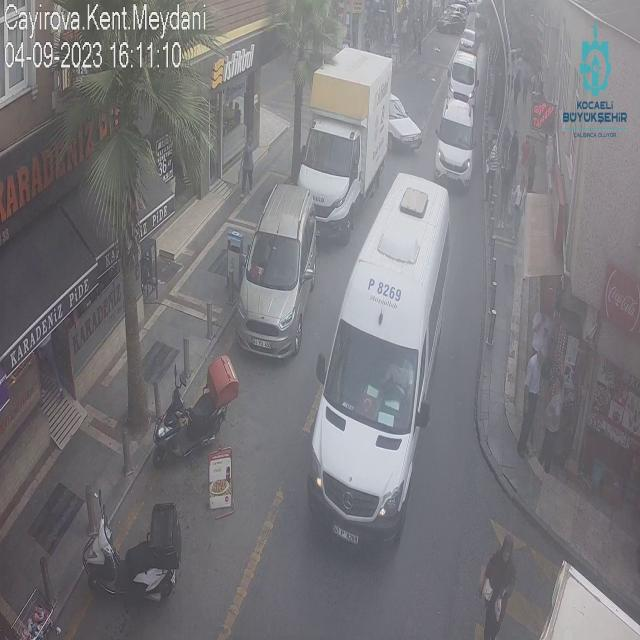car: (236, 185, 318, 358), (435, 98, 474, 184), (389, 95, 422, 148), (449, 49, 478, 104)
lorry: (299, 48, 392, 242)
minivan: (309, 174, 449, 544)
motorcyclist: (82, 490, 181, 601), (152, 356, 239, 466)
